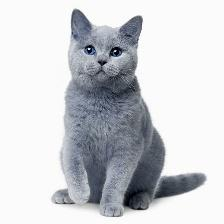kedo: (52, 10, 205, 216)
